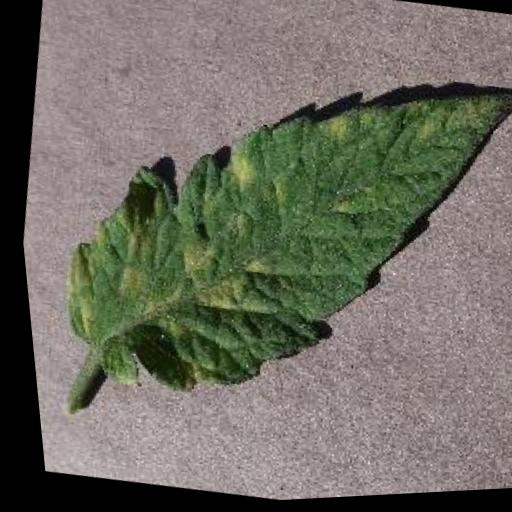Leaf Mold: (27, 24, 512, 451)
